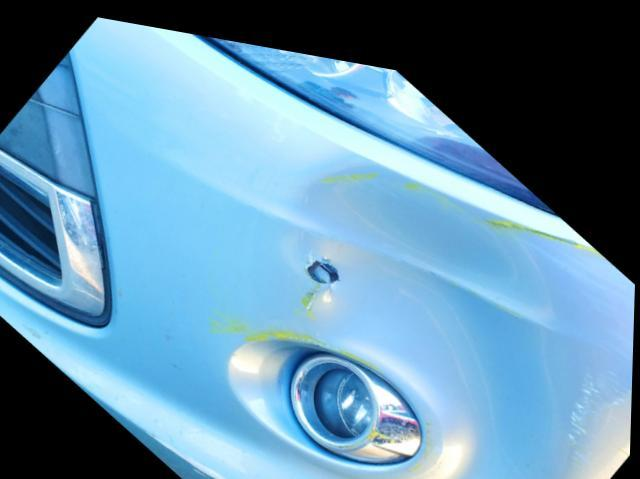dent: (290, 157, 574, 479)
scratch: (486, 196, 636, 479), (213, 269, 383, 361)
